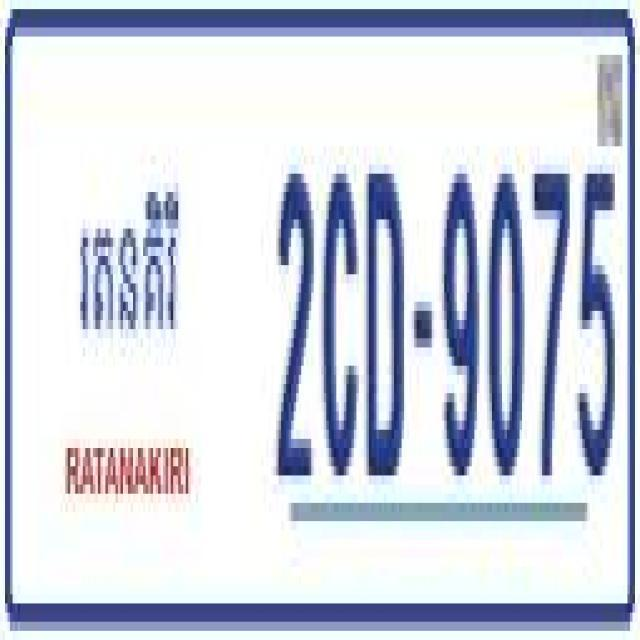Ratanakiri: (78, 164, 184, 362)
